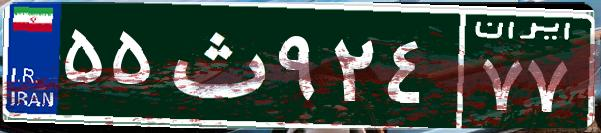2: (330, 28, 385, 110)
4: (385, 28, 445, 110)
5: (57, 26, 110, 107), (110, 28, 158, 105)
7: (475, 38, 525, 113), (525, 38, 570, 115)
9: (273, 28, 330, 110)
ث: (158, 15, 273, 115)
